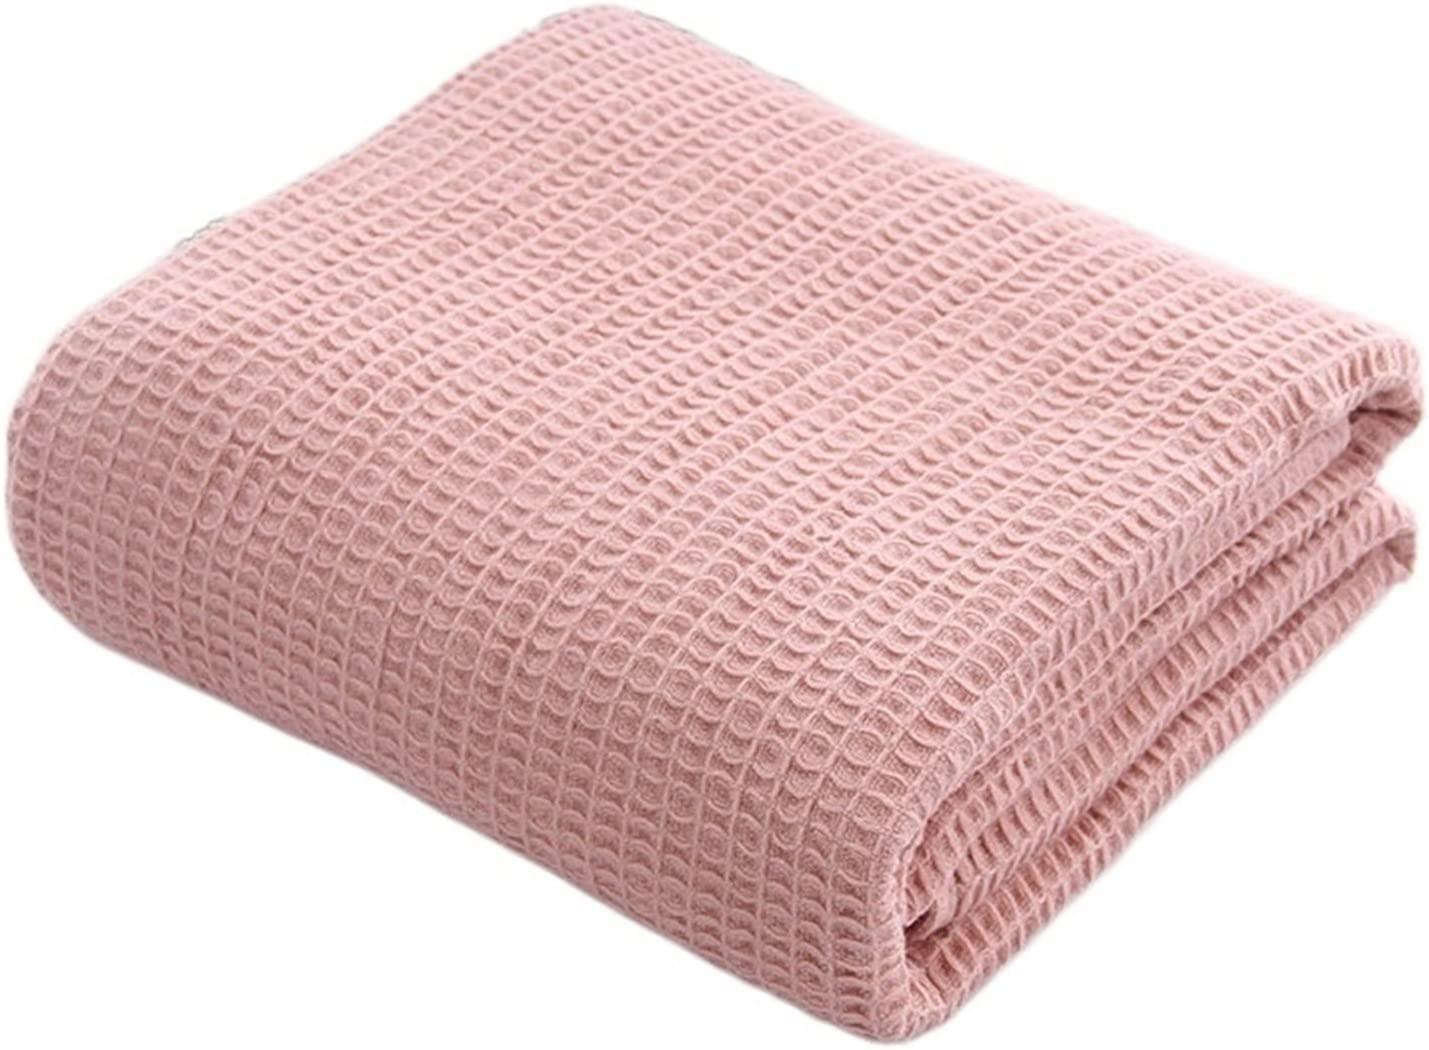towel: (0, 0, 1348, 1050)
